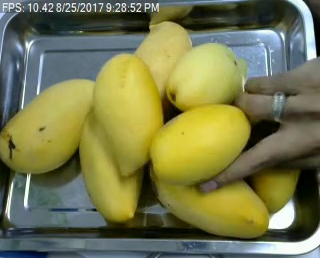Mango: (148, 160, 269, 238), (0, 78, 97, 174), (93, 54, 163, 175), (149, 103, 251, 183), (79, 111, 144, 222), (166, 45, 245, 111), (133, 20, 192, 97), (253, 164, 301, 212)
